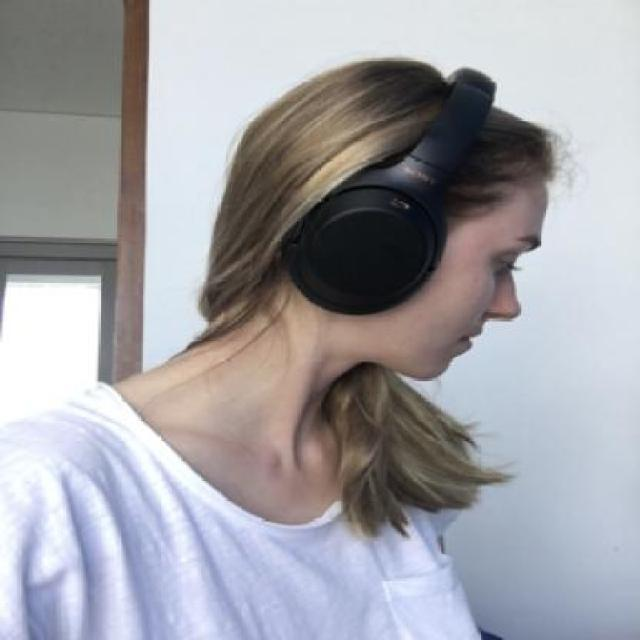earphone: (295, 16, 497, 322)
